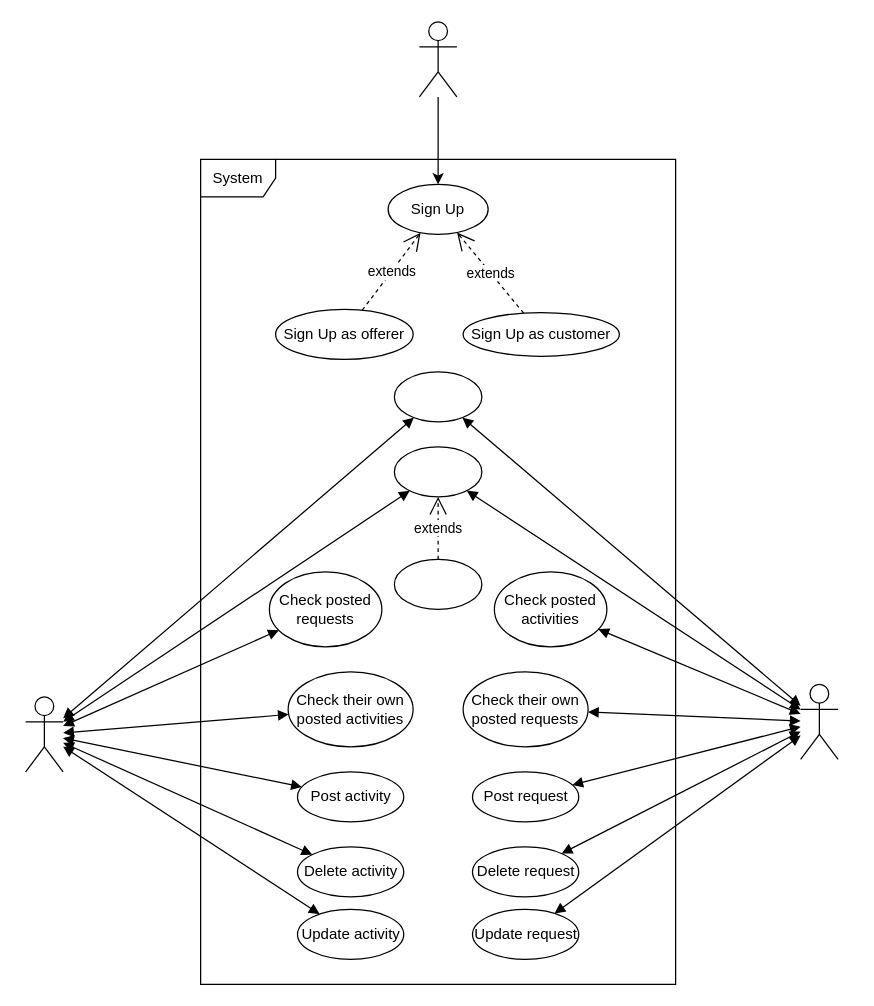
This 874x1006 diagram has some shape labels left out. The shapes that lost their labels are listed below. From the top down, each one's centre as x and y in pixels, then its label:
(437,59): User
(437,396): Log In
(437,471): Log Out
(437,583): Delete user
(43,734): Offerer
(818,721): Customer
